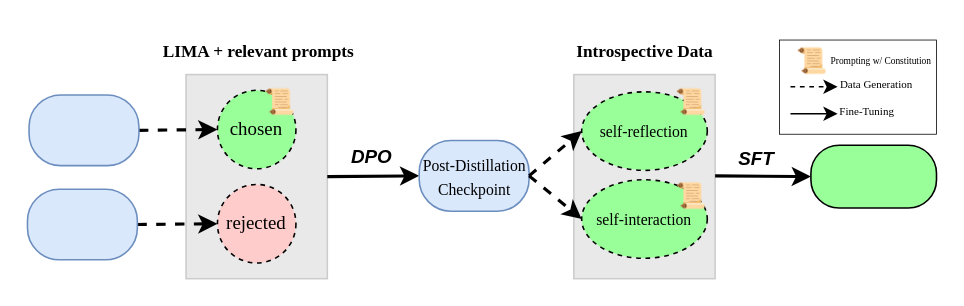
The diagram is 964 pixels wide and 306 high, and some of its shapes have lost their labels. Here are the shapes that lost their labels. From the top down, the centre of each, then its label:
(83,129): Teacher Model e.g., GLM 4.5 Air
(873,176): Character Trained Model
(81,224): Original Model e.g., Llama 3.1 8B
